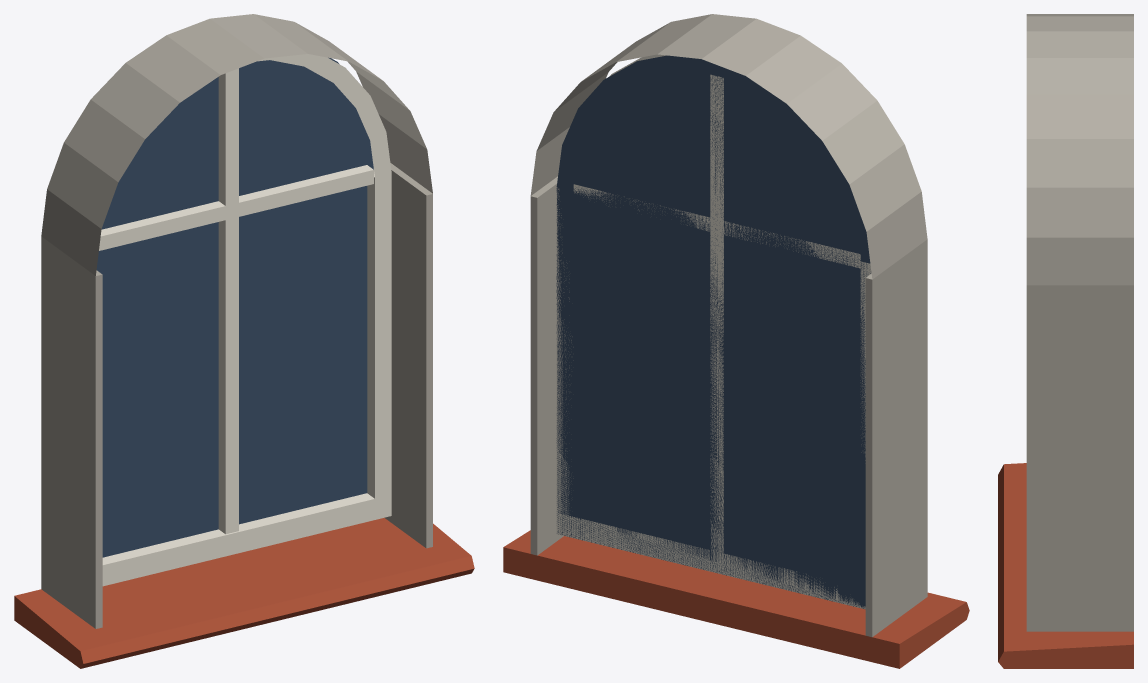
File: kit_window_arch.obj
3 views of the same model, side by side, from view 1: azimuth 30°, elevation 25°; view 2: azimuth 150°, elevation 25°; view 3: azimuth 270°, elevation 25° (orthographic). The views are drawn at different scales.
Visible parts, largest first — view 1: kit_window_arch; view 2: kit_window_arch; view 3: kit_window_arch.
Boxes of the visible parts, x1,y1,x2,y2 form: kit_window_arch: (14, 14, 474, 668); kit_window_arch: (503, 14, 969, 668); kit_window_arch: (998, 14, 1133, 668).
Bounding box in the file's own units: 1.16 × 1.57 × 0.355.
